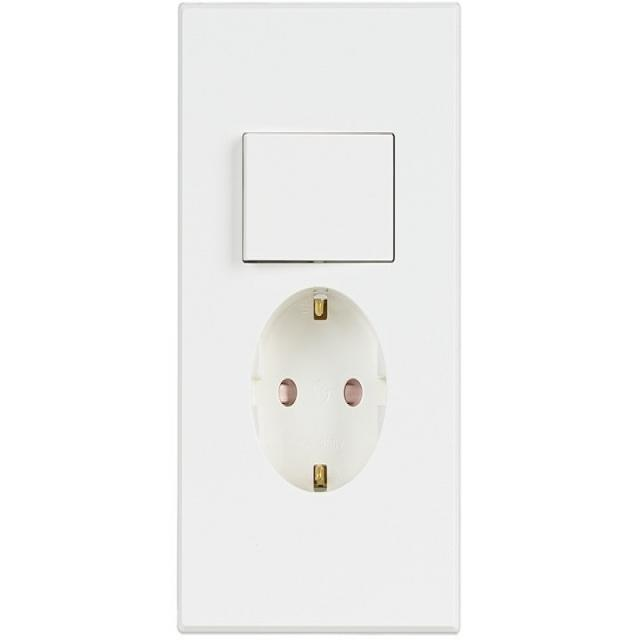typeb: (171, 5, 470, 640)
